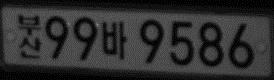5: (169, 21, 194, 66)
6: (228, 22, 254, 68)
8: (198, 21, 224, 67)
9: (72, 17, 98, 61), (44, 15, 68, 59), (140, 19, 164, 63)
바: (102, 21, 127, 60)
부산_V: (17, 13, 42, 59)
